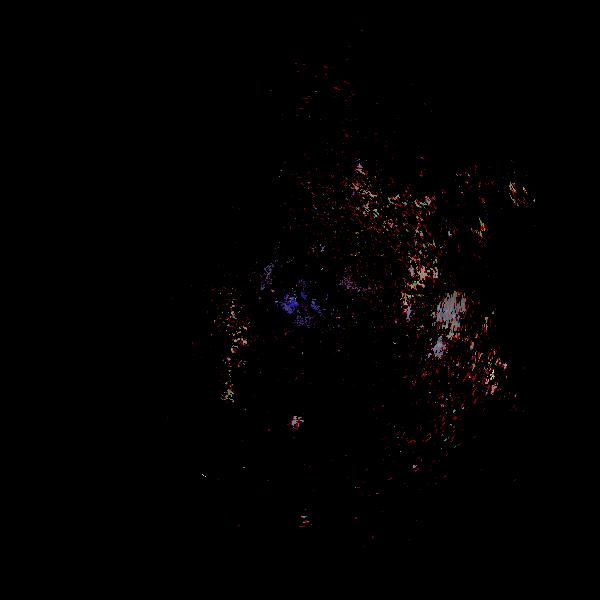roost: (285, 411, 303, 429), (292, 514, 310, 532)
